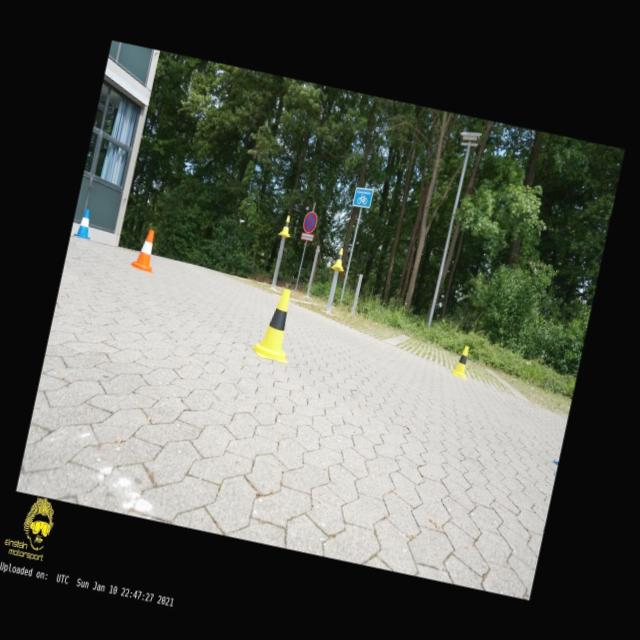blue_cone: (72, 206, 96, 238)
orange_cone: (130, 226, 160, 272)
yellow_cone: (249, 285, 302, 363), (450, 344, 472, 378), (330, 246, 347, 272), (277, 214, 294, 236)
